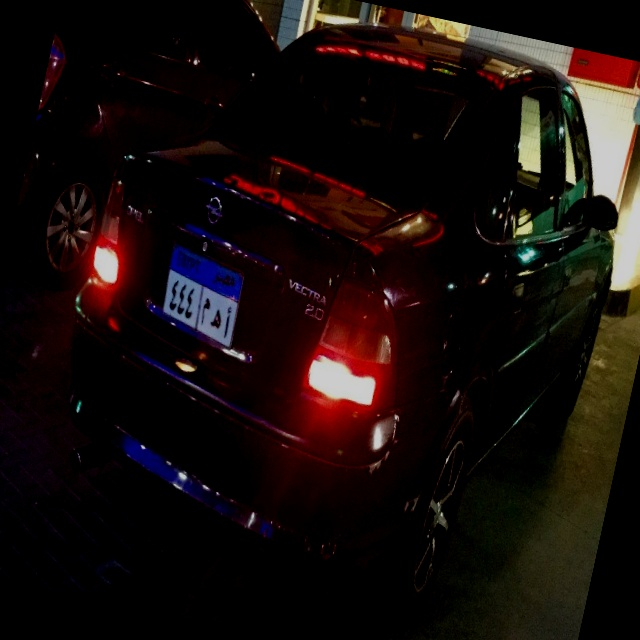License Plate: (151, 238, 252, 352)
